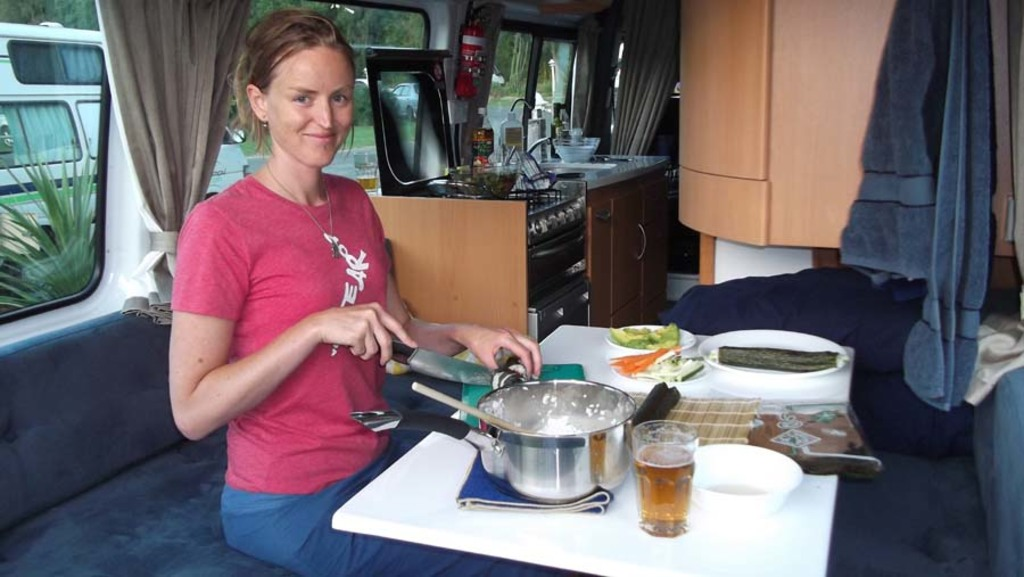salad: (605, 325, 678, 352)
